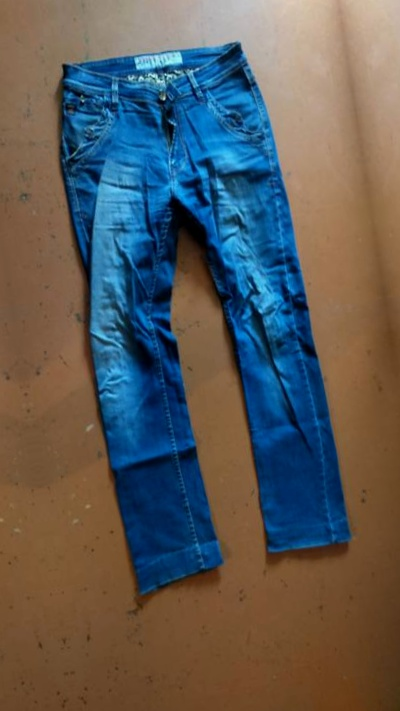Pants: (19, 7, 391, 632), (378, 0, 400, 576), (0, 65, 18, 690)
